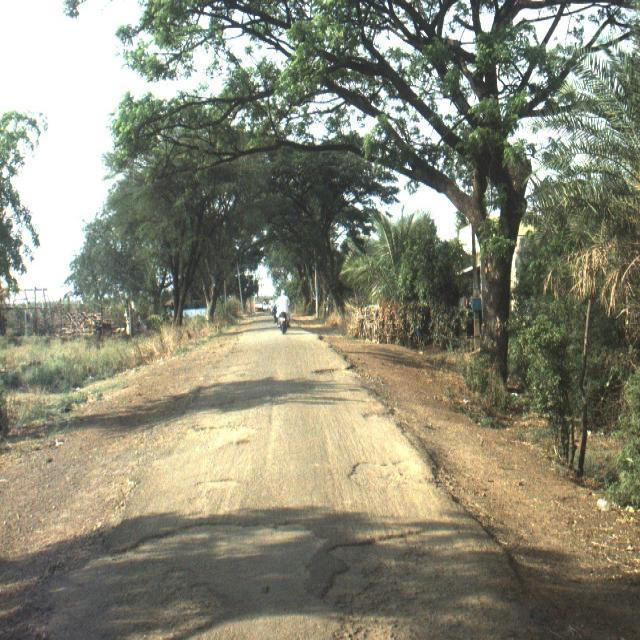Pothole: (103, 514, 328, 609), (320, 524, 428, 606), (347, 457, 422, 488)
